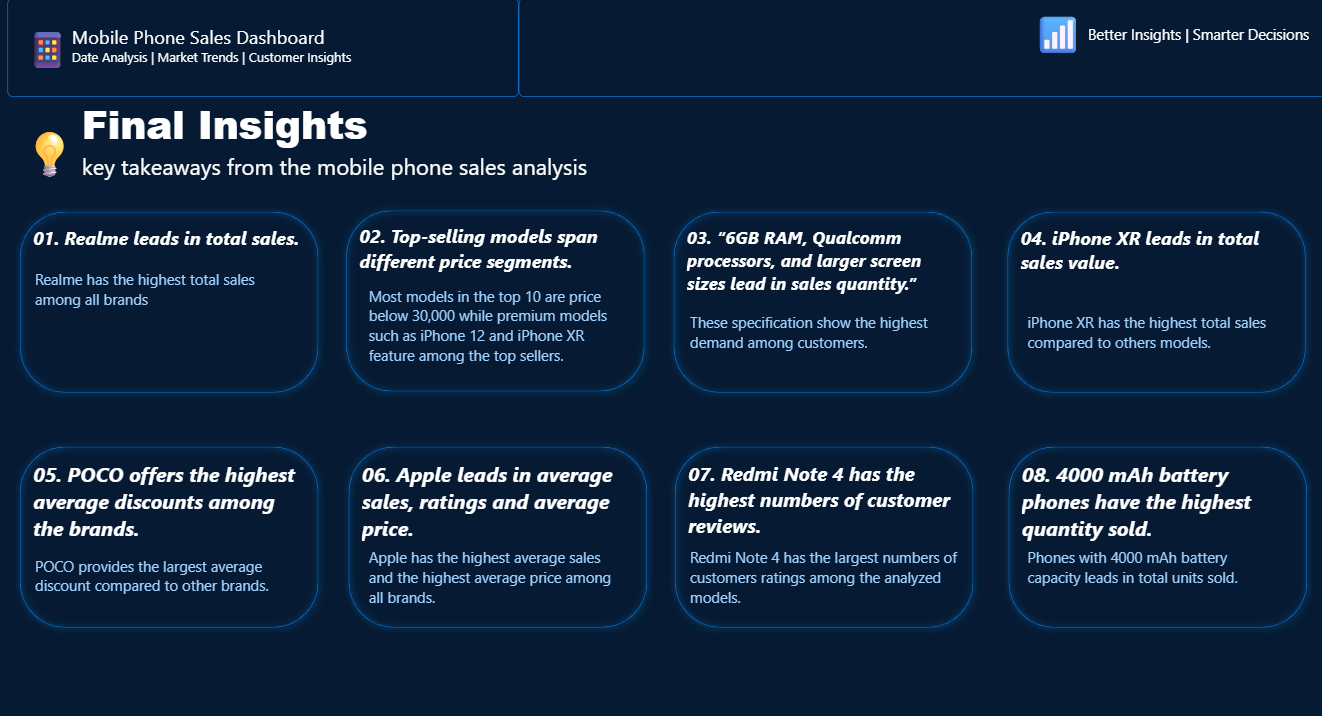

The page's visual inventory and layout, read from the dashboard file:
{"tool":"powerbi","page":{"name":"Key findings & recommendations","canvas":[1920,1080],"ordinal":2},"visuals":[{"type":"textbox","box":[10.9,0,740.2,143],"z":0},{"type":"textbox","box":[751,0,1169,143],"z":1000},{"type":"textbox","box":[10.9,143,1909.2,157.4],"z":2000},{"type":"shape","box":[19.9,300.4,450,280],"z":3000},{"type":"shape","box":[492.2,298.6,450,280],"z":4000},{"type":"shape","box":[966.4,300.4,450,280],"z":5000},{"type":"shape","box":[1449.5,300.4,450,280],"z":6000},{"type":"shape","box":[19.9,640.6,450,280],"z":7000},{"type":"shape","box":[495.8,640.6,450,280],"z":8000},{"type":"shape","box":[968.2,640.6,450,280],"z":9000},{"type":"shape","box":[1451.3,640.6,450,280],"z":10000},{"type":"textbox","box":[50.7,392.7,385.5,146.6],"z":11000},{"type":"textbox","box":[533.8,416.2,369.2,139.3],"z":12000},{"type":"textbox","box":[998.9,454.2,383.6,85.1],"z":13000},{"type":"textbox","box":[1487.5,454.2,367.4,85.1],"z":14000},{"type":"textbox","box":[50.7,807.1,385.5,90.5],"z":15000},{"type":"textbox","box":[533.8,794.4,369.2,88.7],"z":16000},{"type":"textbox","box":[998.9,794.4,401.7,103.2],"z":17000},{"type":"textbox","box":[1487.5,794.4,389.1,103.2],"z":18000},{"type":"shape","box":[19.9,7.2,97.7,128.5],"z":19000},{"type":"shape","box":[1464,0,135.7,99.5],"z":20000},{"type":"shape","box":[10.9,144.8,106.8,155.6],"z":21000}]}

Visuals, with their boxes on the page's 1920x1080 design canvas (x1, y1, x2, y2). These are canvas units, not pixel positions in the 1322x716 screenshot, which may show the page scaled, cropped or inside an application window:
textbox: select_region(11, 0, 751, 143)
textbox: select_region(751, 0, 1920, 143)
textbox: select_region(11, 143, 1920, 300)
shape: select_region(20, 300, 470, 580)
shape: select_region(492, 299, 942, 579)
shape: select_region(966, 300, 1416, 580)
shape: select_region(1450, 300, 1900, 580)
shape: select_region(20, 641, 470, 921)
shape: select_region(496, 641, 946, 921)
shape: select_region(968, 641, 1418, 921)
shape: select_region(1451, 641, 1901, 921)
textbox: select_region(51, 393, 436, 539)
textbox: select_region(534, 416, 903, 556)
textbox: select_region(999, 454, 1382, 539)
textbox: select_region(1488, 454, 1855, 539)
textbox: select_region(51, 807, 436, 898)
textbox: select_region(534, 794, 903, 883)
textbox: select_region(999, 794, 1401, 898)
textbox: select_region(1488, 794, 1877, 898)
shape: select_region(20, 7, 118, 136)
shape: select_region(1464, 0, 1600, 100)
shape: select_region(11, 145, 118, 300)
